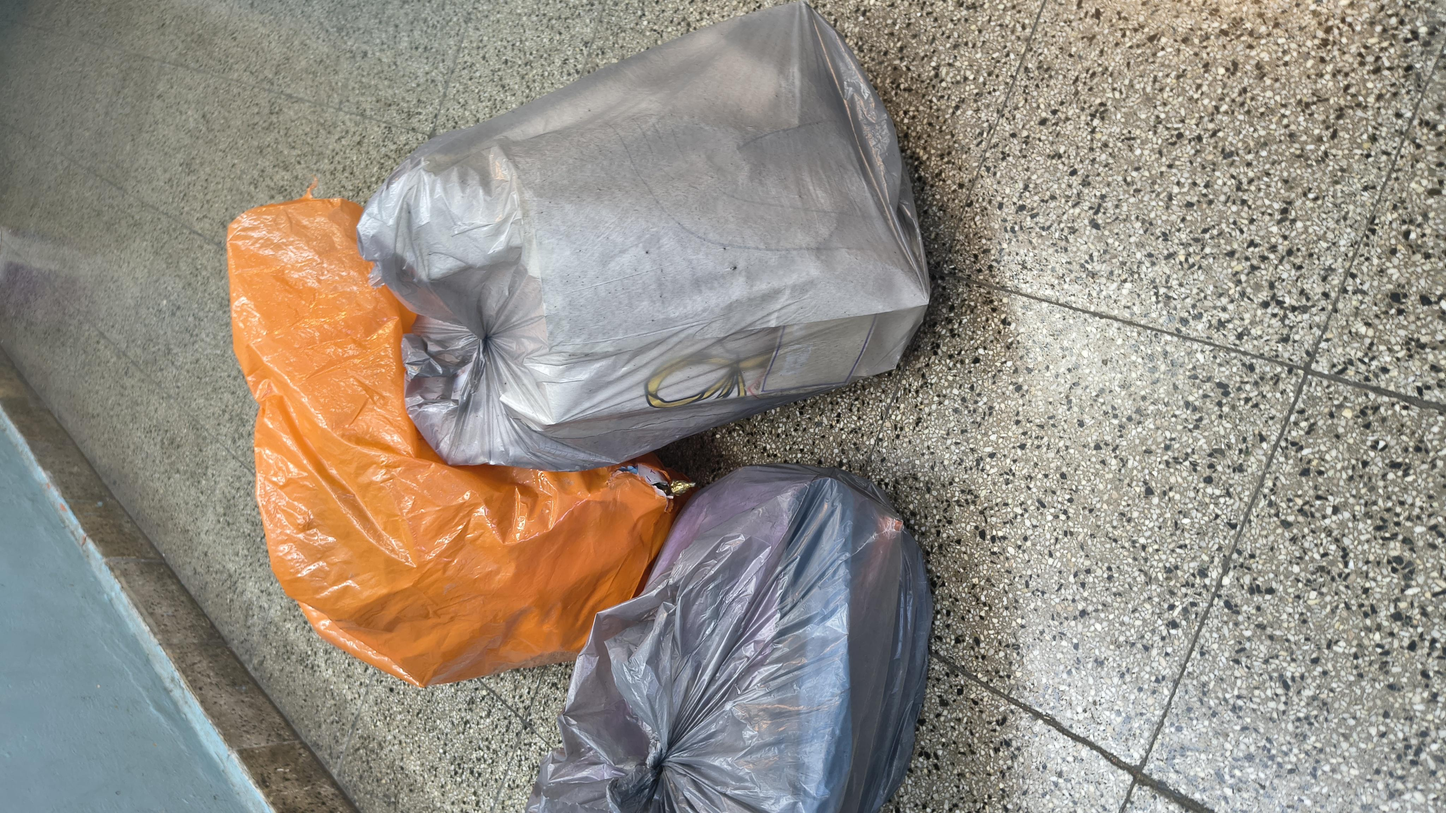Garbage: (621, 197, 1431, 542), (201, 111, 1117, 385), (0, 280, 628, 526)
